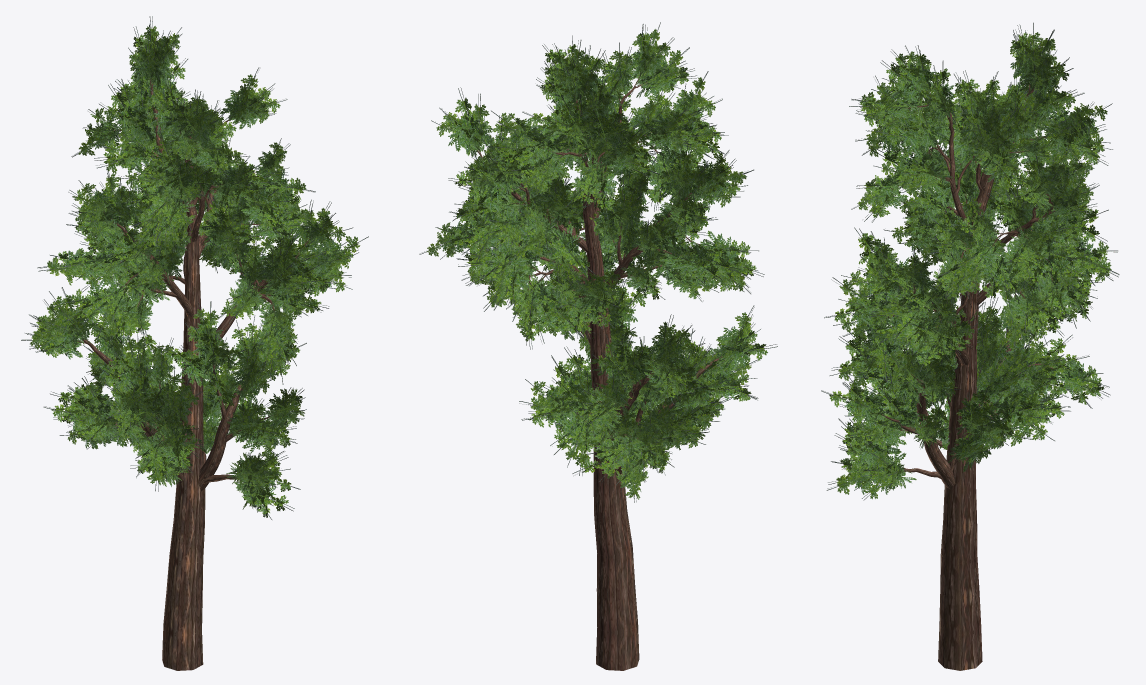
The model's file is eztree-shagbark-hickory-stand-a.glb.
3 views of the same model, side by side, from view 1: azimuth 30°, elevation 25°; view 2: azimuth 150°, elevation 25°; view 3: azimuth 270°, elevation 25° (orthographic). The views are drawn at different scales.
Parts seen in each view (by area): view 1: eztree-shagbark-hickory-stand-a; view 2: eztree-shagbark-hickory-stand-a; view 3: eztree-shagbark-hickory-stand-a.
Boxes of the visible parts, bbox=[...] form: eztree-shagbark-hickory-stand-a: bbox=[21, 16, 368, 670]; eztree-shagbark-hickory-stand-a: bbox=[419, 22, 777, 670]; eztree-shagbark-hickory-stand-a: bbox=[821, 22, 1119, 670].
Bounding box in the file's own units: 40.58 × 76.78 × 34.6.
2 materials, 2 textured.
